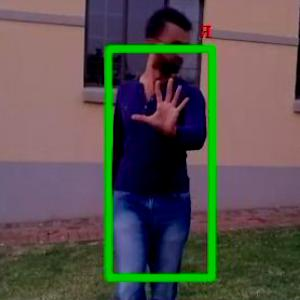follow_hand: (130, 74, 198, 140)
